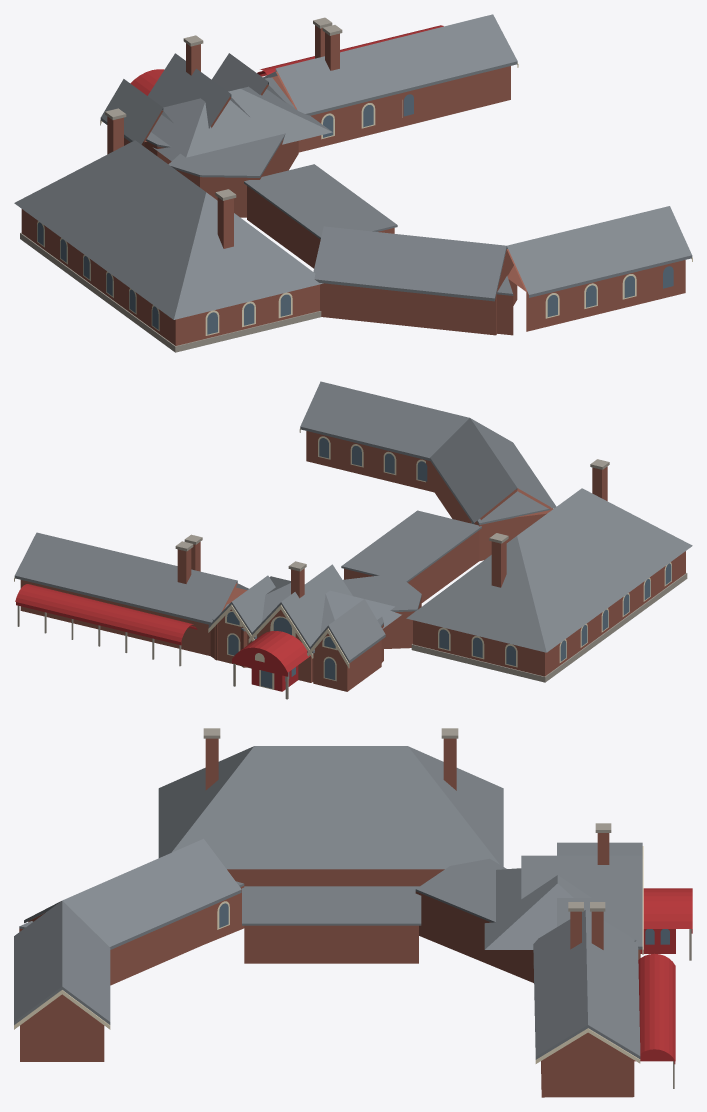
File: nyc-tavern-on-the-green.glb
The picture shows the model from 3 angles, top to bottom: view 1: azimuth 30°, elevation 25°; view 2: azimuth 150°, elevation 25°; view 3: azimuth 270°, elevation 25°; orthographic projection. The views are drawn at different scales.
Visible parts, largest first — view 1: Tavern on the Green; view 2: Tavern on the Green; view 3: Tavern on the Green.
Part boxes in pixels (x1,y1,x2,y2): Tavern on the Green: (14, 14, 692, 352); Tavern on the Green: (14, 381, 692, 699); Tavern on the Green: (14, 728, 692, 1097).
Bounding box in the file's own units: 54.42 × 12.5 × 57.07.
